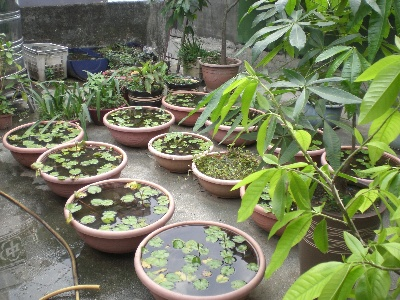bowl: (133, 220, 268, 300), (62, 178, 174, 254), (34, 140, 127, 198), (2, 120, 84, 169), (191, 150, 263, 197), (101, 105, 175, 148), (146, 131, 215, 173), (161, 91, 210, 127)
